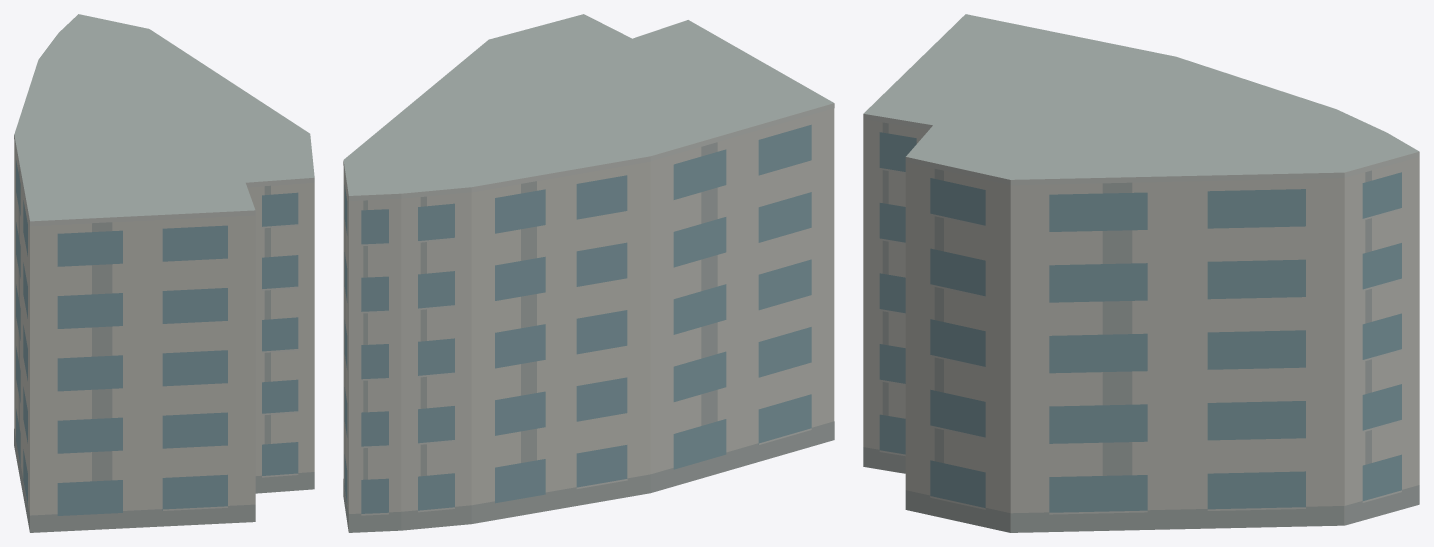
File: survey-upis-32601185.glb
3 views of the same model, side by side, from view 1: azimuth 30°, elevation 25°; view 2: azimuth 150°, elevation 25°; view 3: azimuth 270°, elevation 25° (orthographic). The views are drawn at different scales.
Visible parts, largest first — view 1: survey-upis-32601185.tmp; view 2: survey-upis-32601185.tmp; view 3: survey-upis-32601185.tmp.
Boxes of the visible parts, bbox=[...] form: survey-upis-32601185.tmp: bbox=[14, 14, 314, 532]; survey-upis-32601185.tmp: bbox=[343, 14, 834, 532]; survey-upis-32601185.tmp: bbox=[863, 14, 1419, 532].
Bounding box in the file's own units: 15.84 × 15.71 × 22.45.
